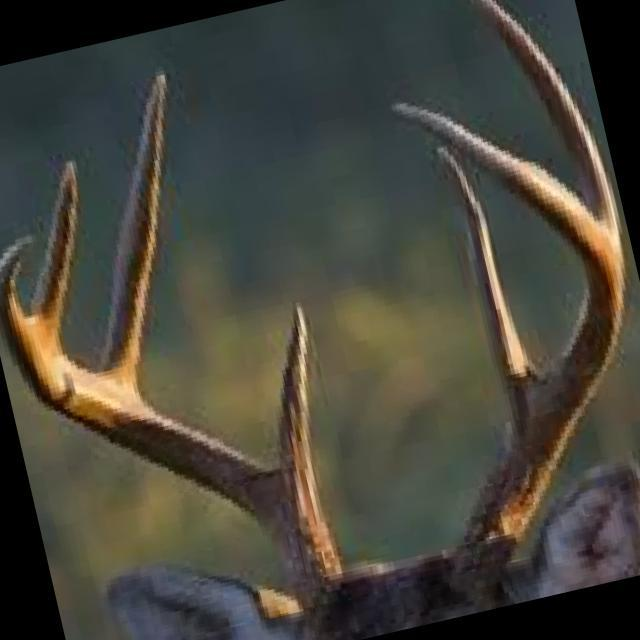L-F: (388, 100, 625, 596)
L-G1: (436, 144, 547, 432)
L-G2: (467, 0, 622, 250)
R-F: (0, 233, 344, 603)
R-G1: (273, 299, 318, 489)
R-G2: (104, 71, 169, 398)
R-G3: (31, 158, 79, 346)
